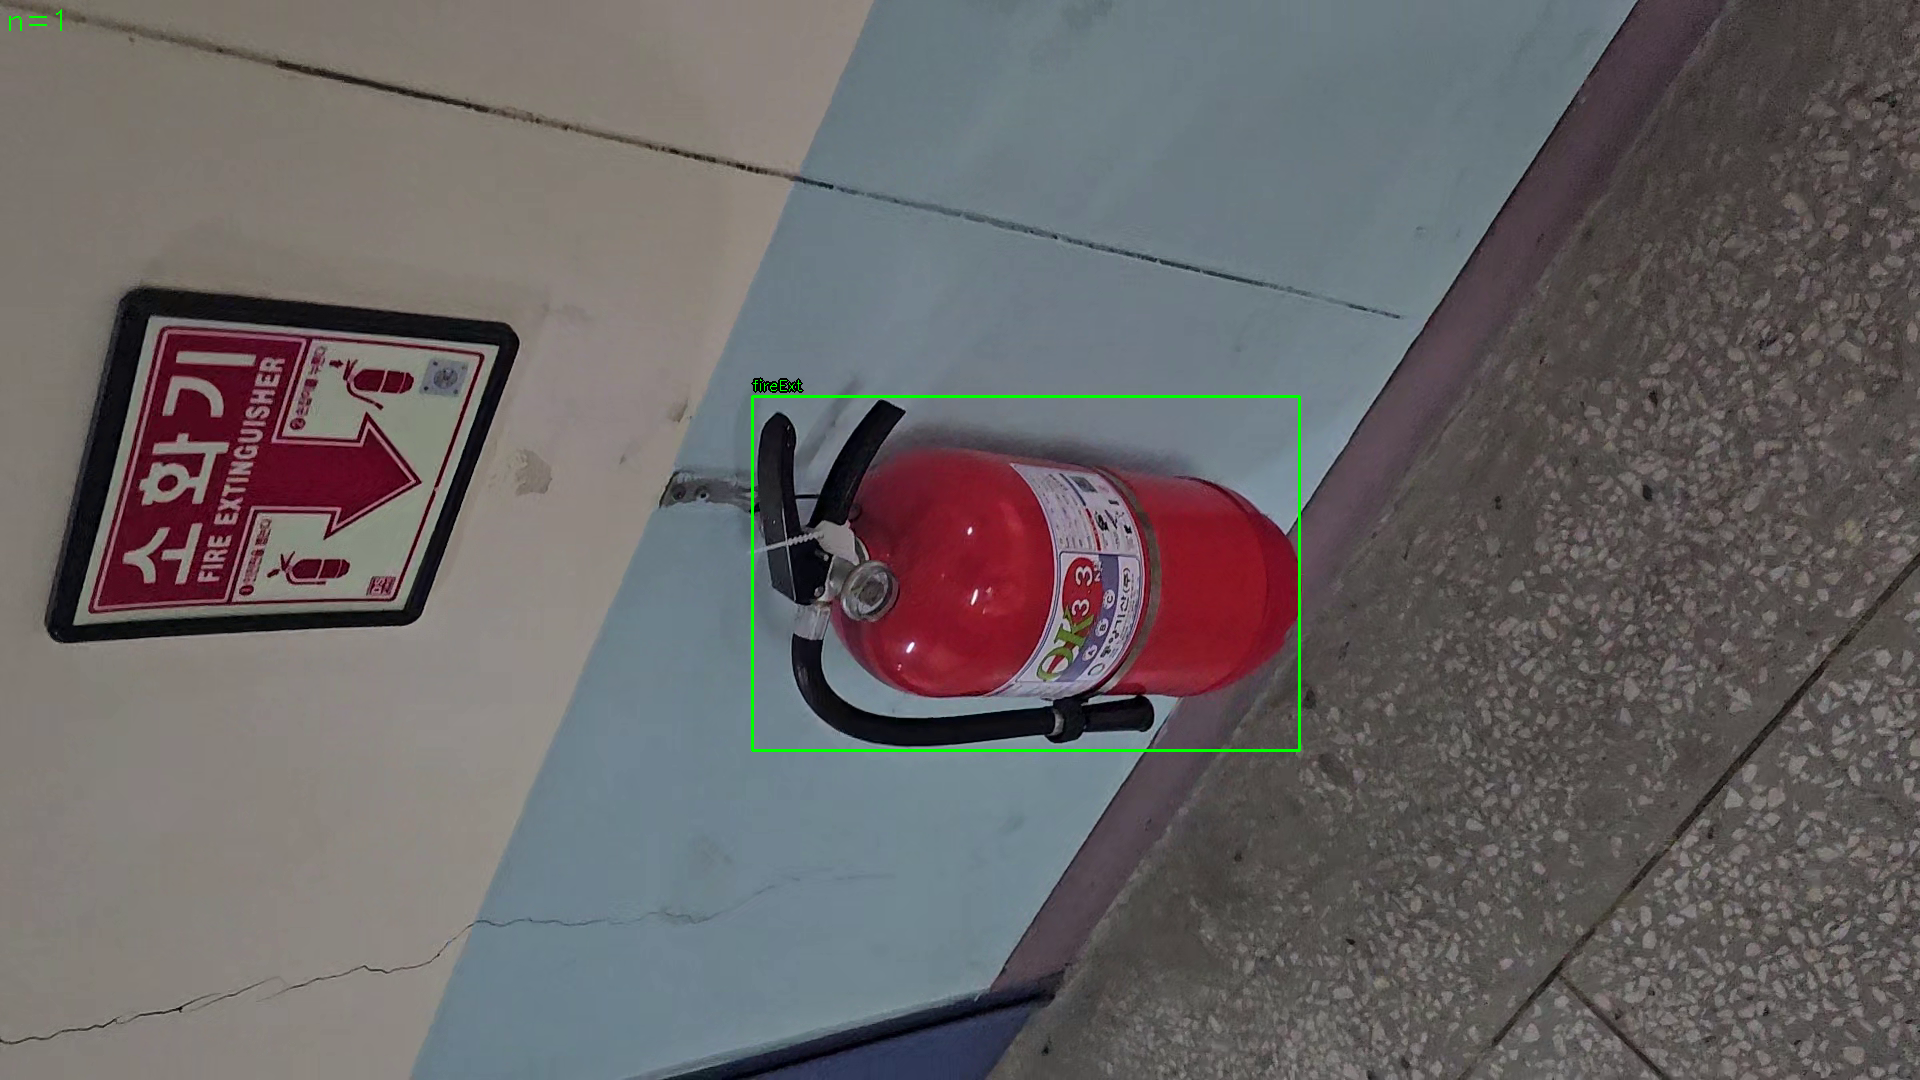lane: (752, 396, 1300, 752)
